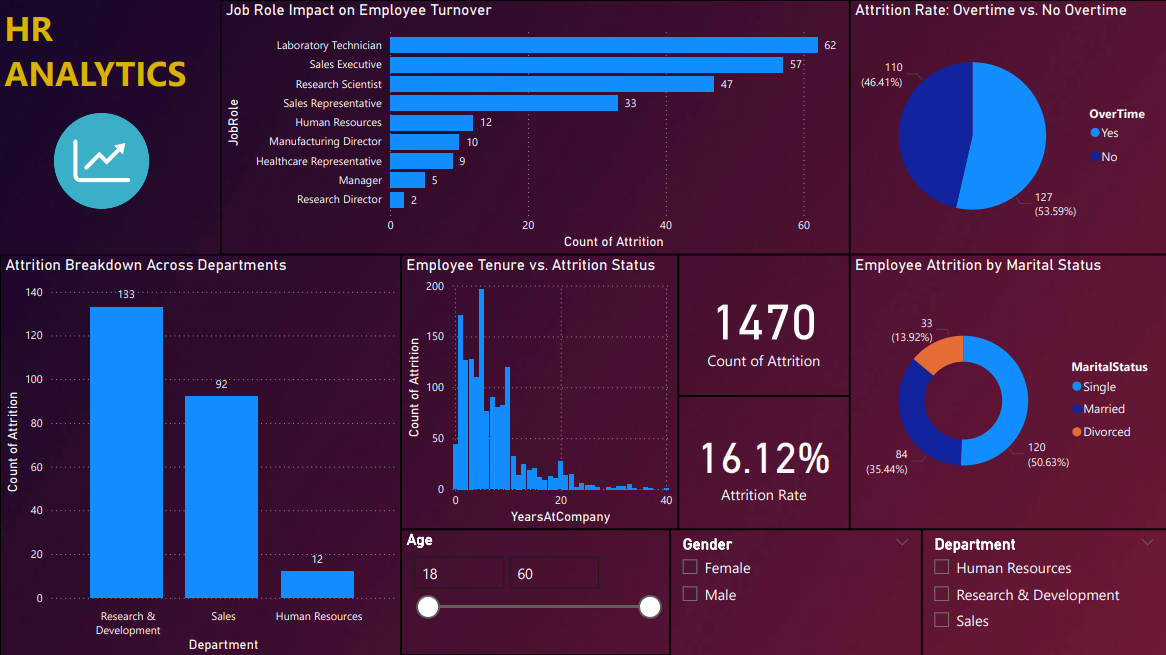

Layout of this report page (visuals, bound fields, positions):
{"tool":"powerbi","page":{"name":"Page 1","canvas":[1280,720],"ordinal":0},"visuals":[{"type":"card","fields":{"Values":["CountNonNull(WA_Fn-UseC_-HR-Employee-Attrition.Attrition)"]},"box":[744.1,278.9,187.6,155.5],"z":0},{"type":"card","fields":{"Values":["WA_Fn-UseC_-HR-Employee-Attrition.Attrition Rate"]},"box":[744.1,434.4,187.6,145.2],"z":1000},{"type":"clusteredColumnChart","title":"Attrition Breakdown Across Departments","fields":{"Category":["WA_Fn-UseC_-HR-Employee-Attrition.Department"],"Y":["CountNonNull(WA_Fn-UseC_-HR-Employee-Attrition.Attrition)"]},"box":[0,278.9,439.5,440.8],"z":2000},{"type":"barChart","title":"Job Role Impact on Employee Turnover","fields":{"Category":["WA_Fn-UseC_-HR-Employee-Attrition.JobRole"],"Y":["CountNonNull(WA_Fn-UseC_-HR-Employee-Attrition.Attrition)"]},"box":[241.6,0,690.1,278.9],"z":3000},{"type":"donutChart","title":"Employee Attrition by Marital Status","fields":{"Category":["WA_Fn-UseC_-HR-Employee-Attrition.MaritalStatus"],"Y":["CountNonNull(WA_Fn-UseC_-HR-Employee-Attrition.Attrition)"]},"box":[931.7,278.9,348.3,300.7],"z":4000},{"type":"pieChart","title":"Attrition Rate: Overtime vs. No Overtime","fields":{"Category":["WA_Fn-UseC_-HR-Employee-Attrition.OverTime"],"Y":["CountNonNull(WA_Fn-UseC_-HR-Employee-Attrition.Attrition)"]},"box":[931.7,0,348.3,278.9],"z":5000},{"type":"slicer","fields":{"Values":["WA_Fn-UseC_-HR-Employee-Attrition.Department"]},"box":[1011.4,579.6,268.6,140.1],"z":6000},{"type":"slicer","fields":{"Values":["WA_Fn-UseC_-HR-Employee-Attrition.Gender"]},"box":[735.1,579.6,276.3,140.1],"z":7000},{"type":"slicer","title":"Age","fields":{"Values":["WA_Fn-UseC_-HR-Employee-Attrition.Age"]},"box":[439.5,579.6,295.6,138.8],"z":8000},{"type":"clusteredColumnChart","title":"Employee Tenure vs. Attrition Status","fields":{"Category":["WA_Fn-UseC_-HR-Employee-Attrition.YearsAtCompany"],"Y":["CountNonNull(WA_Fn-UseC_-HR-Employee-Attrition.Attrition)"]},"box":[439.5,278.9,304.6,300.7],"z":9000},{"type":"textbox","box":[0,0,241.6,114.4],"z":10000},{"type":"image","box":[19.3,114.4,183.8,124.7],"z":11000}]}

Visuals, with their boxes in screenshot pixels (x1, y1, x2, y2), scaled from the page's 1280x720 canvas onto the 1166x655 screenshot:
card - CountNonNull(WA_Fn-UseC_-HR-Employee-Attrition.Attrition): [678,254,849,395]
card - WA_Fn-UseC_-HR-Employee-Attrition.Attrition Rate: [678,395,849,527]
"Attrition Breakdown Across Departments" clusteredColumnChart: [0,254,400,654]
"Job Role Impact on Employee Turnover" barChart: [220,0,849,254]
"Employee Attrition by Marital Status" donutChart: [849,254,1165,527]
"Attrition Rate: Overtime vs. No Overtime" pieChart: [849,0,1165,254]
slicer - WA_Fn-UseC_-HR-Employee-Attrition.Department: [921,527,1165,654]
slicer - WA_Fn-UseC_-HR-Employee-Attrition.Gender: [670,527,921,654]
"Age" slicer: [400,527,670,654]
"Employee Tenure vs. Attrition Status" clusteredColumnChart: [400,254,678,527]
textbox: [0,0,220,104]
image: [18,104,185,218]
